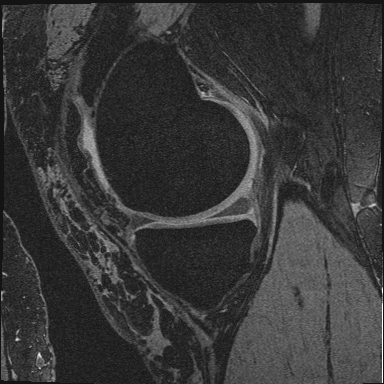effusion: (79, 115, 101, 165)
